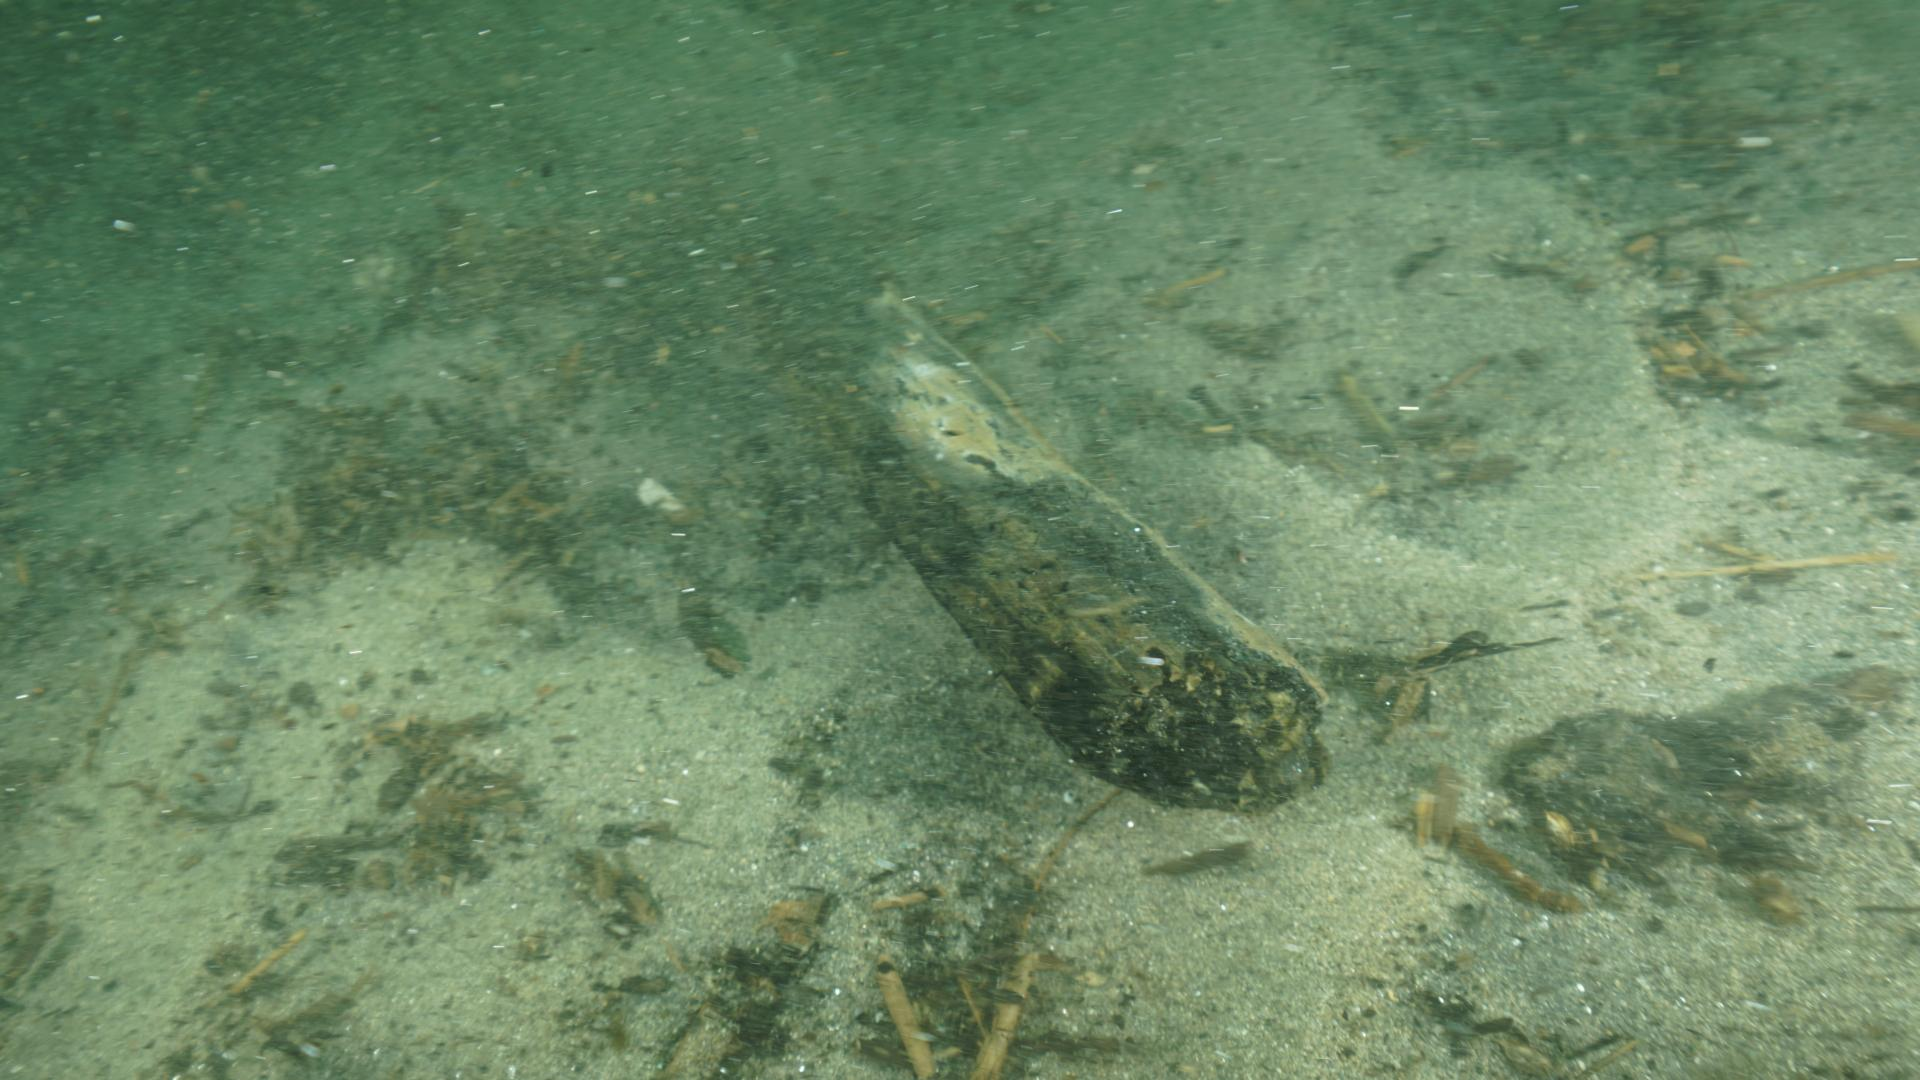wood: (832, 284, 1332, 808)
